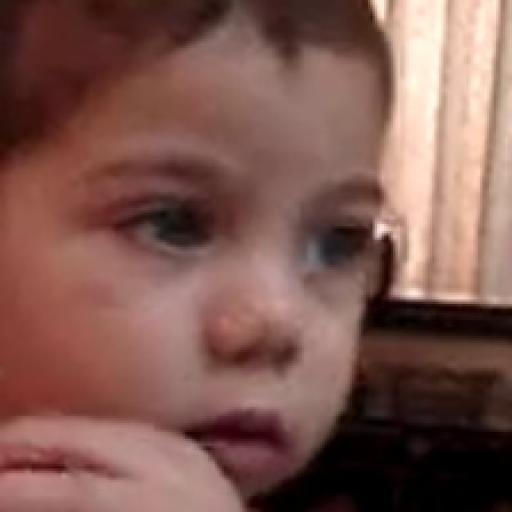Autism: (22, 8, 415, 512)
